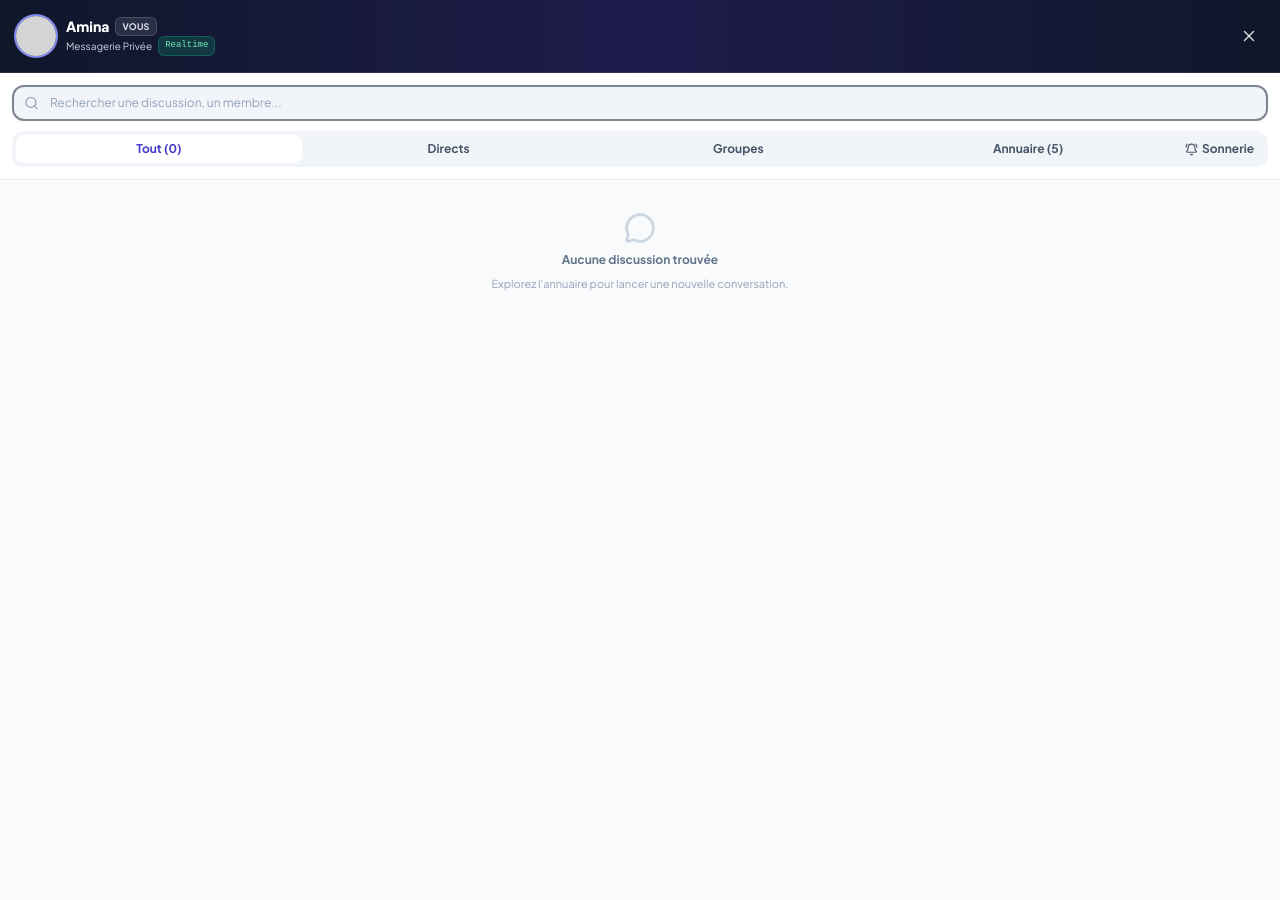
Test case: MoocChatFloating — bouton « Sonnerie » (mission SN) › placé juste après « Annuaire », il ouvre puis ferme le panneau ; les quatre onglets existants restent intacts
What coordinates should you click on to do the following:
click the button with test id "ringing-tab"
I would click on:
 (1220, 149)
Its box is left=1175, top=135, right=1264, bottom=163.
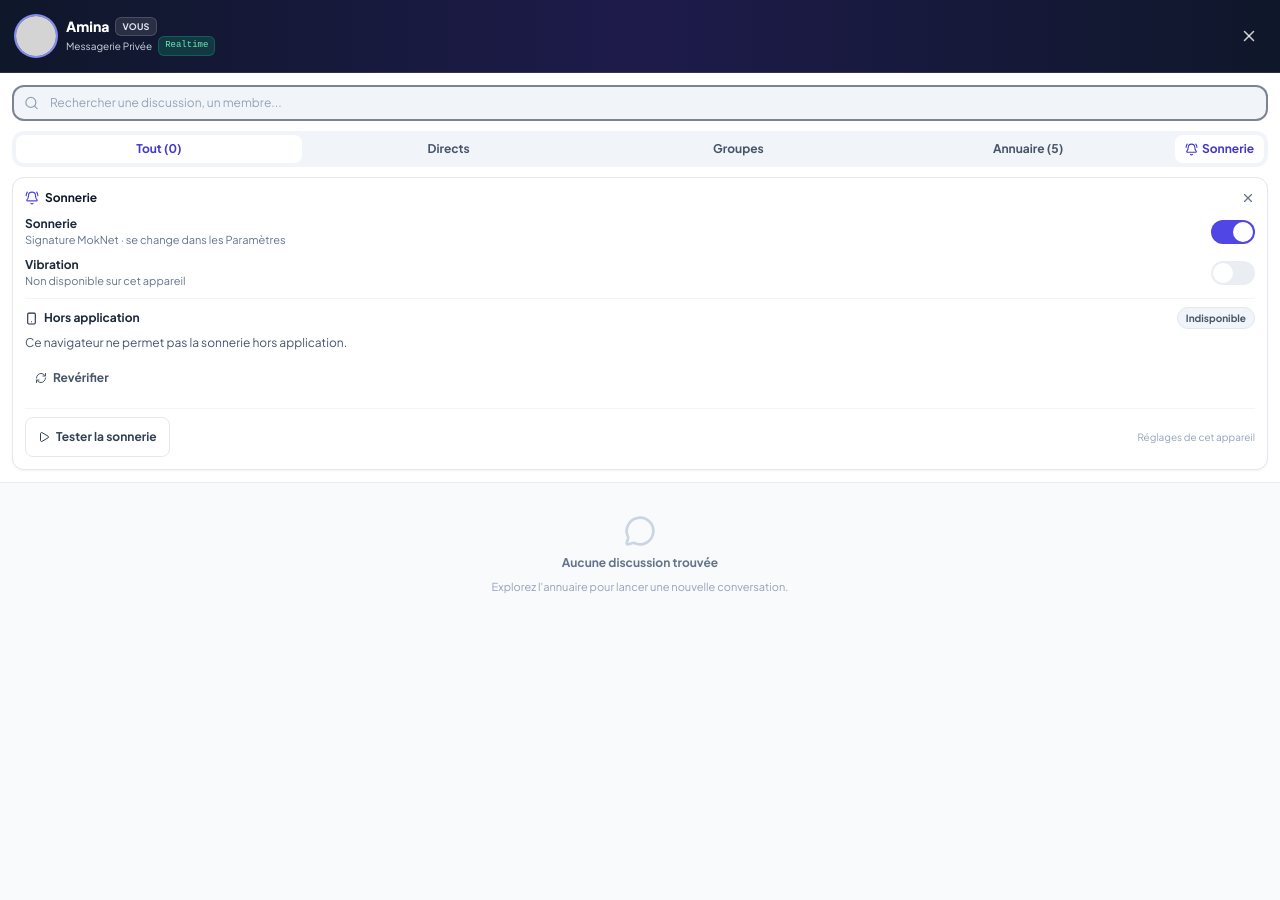
Expected: the button with test id "ringing-tab" is expanded, left=1175, top=135, right=1264, bottom=163
Expected: the switch named "Sonnerie" is shown, left=1201, top=210, right=1265, bottom=254
Expected: the text "Hors application" is shown, left=25, top=310, right=140, bottom=326
What coordinates should you click on to do the following:
click the button named "Fermer le panneau Sonnerie"
I would click on:
 (1248, 198)
Its box is left=1233, top=183, right=1263, bottom=213.
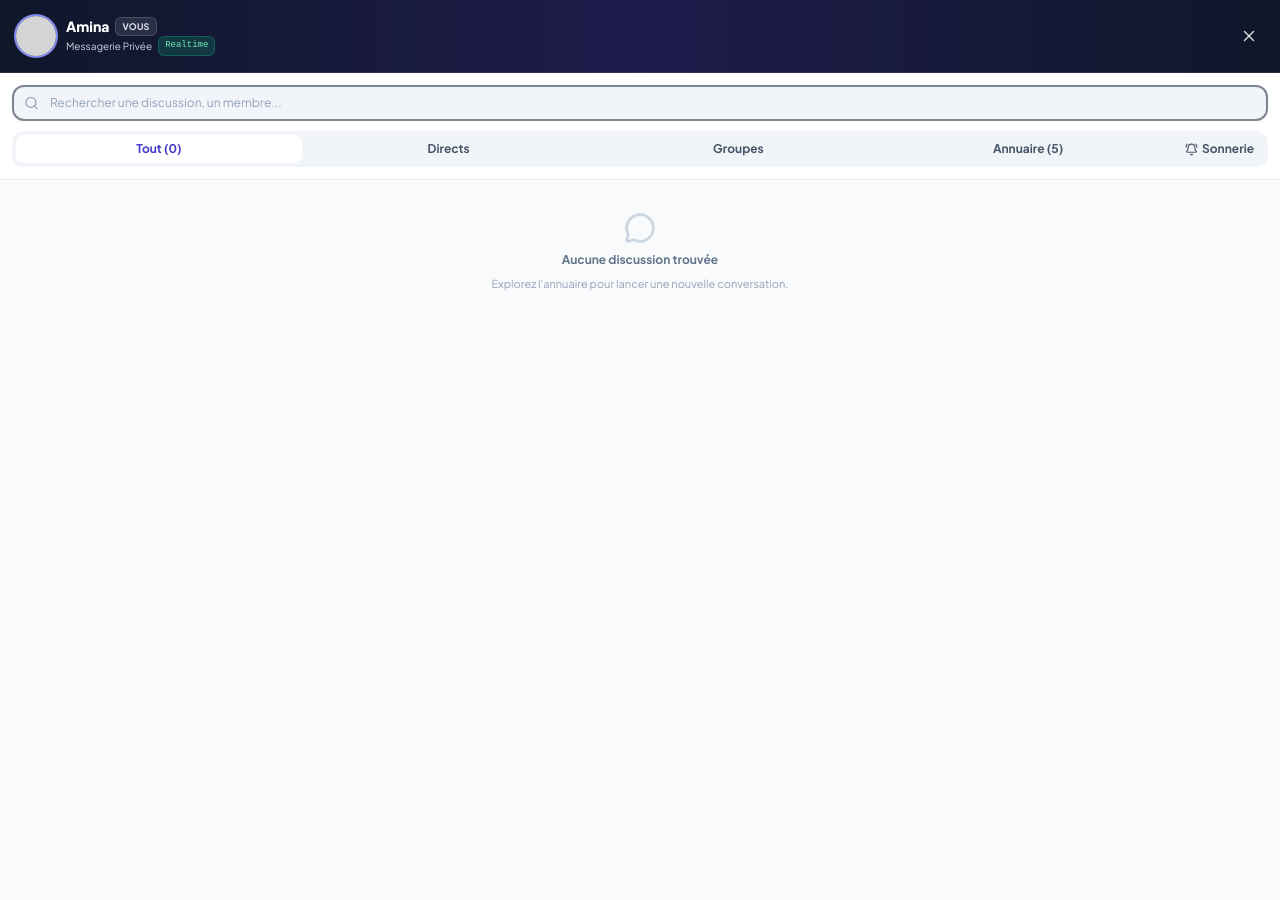
Expected: the element with test id "ringing-panel" is gone
What coordinates should you click on to do the following:
click the button with test id "ringing-tab"
I would click on:
 (1220, 149)
Its box is left=1175, top=135, right=1264, bottom=163.
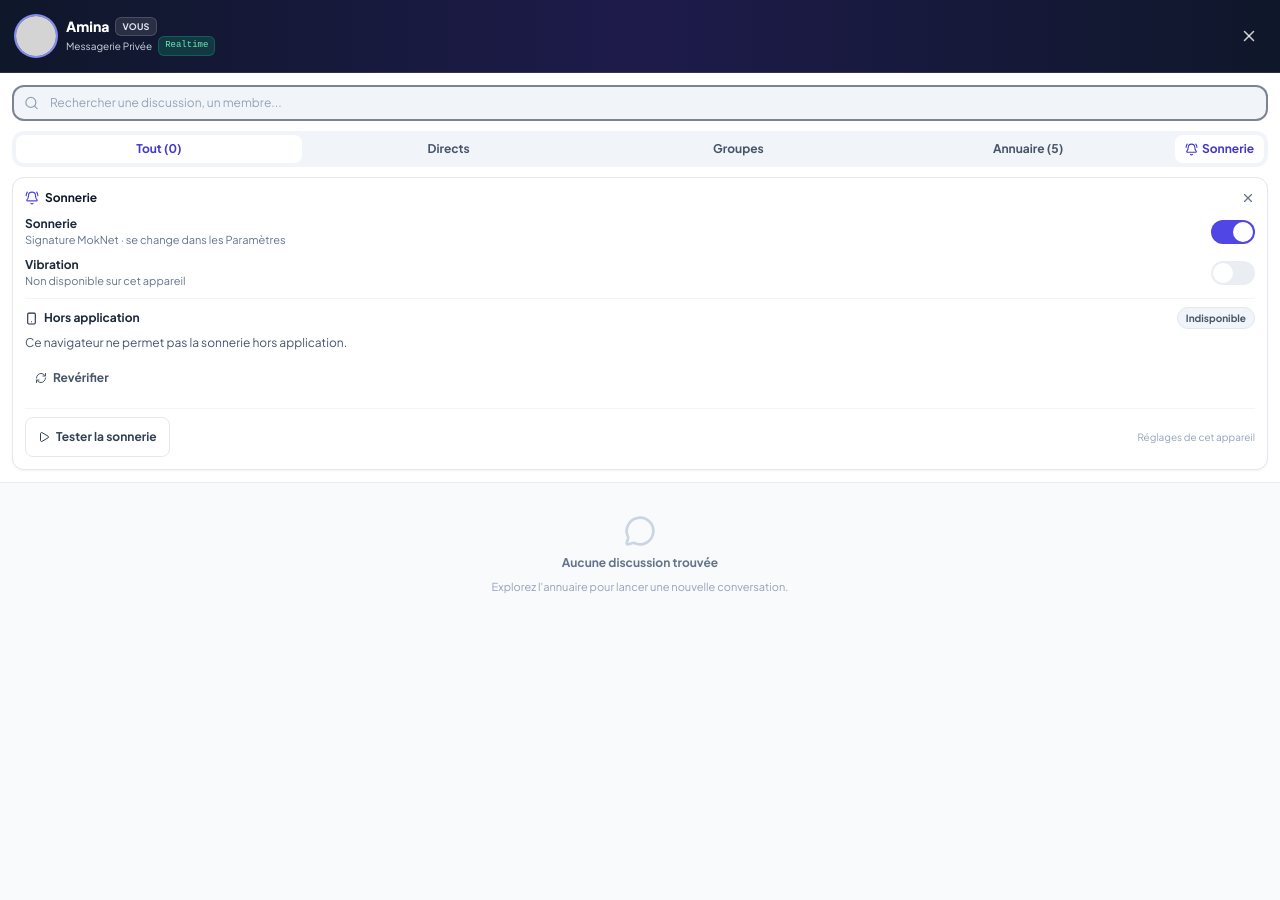
Expected: the element with test id "ringing-panel" is shown, left=12, top=177, right=1268, bottom=470
